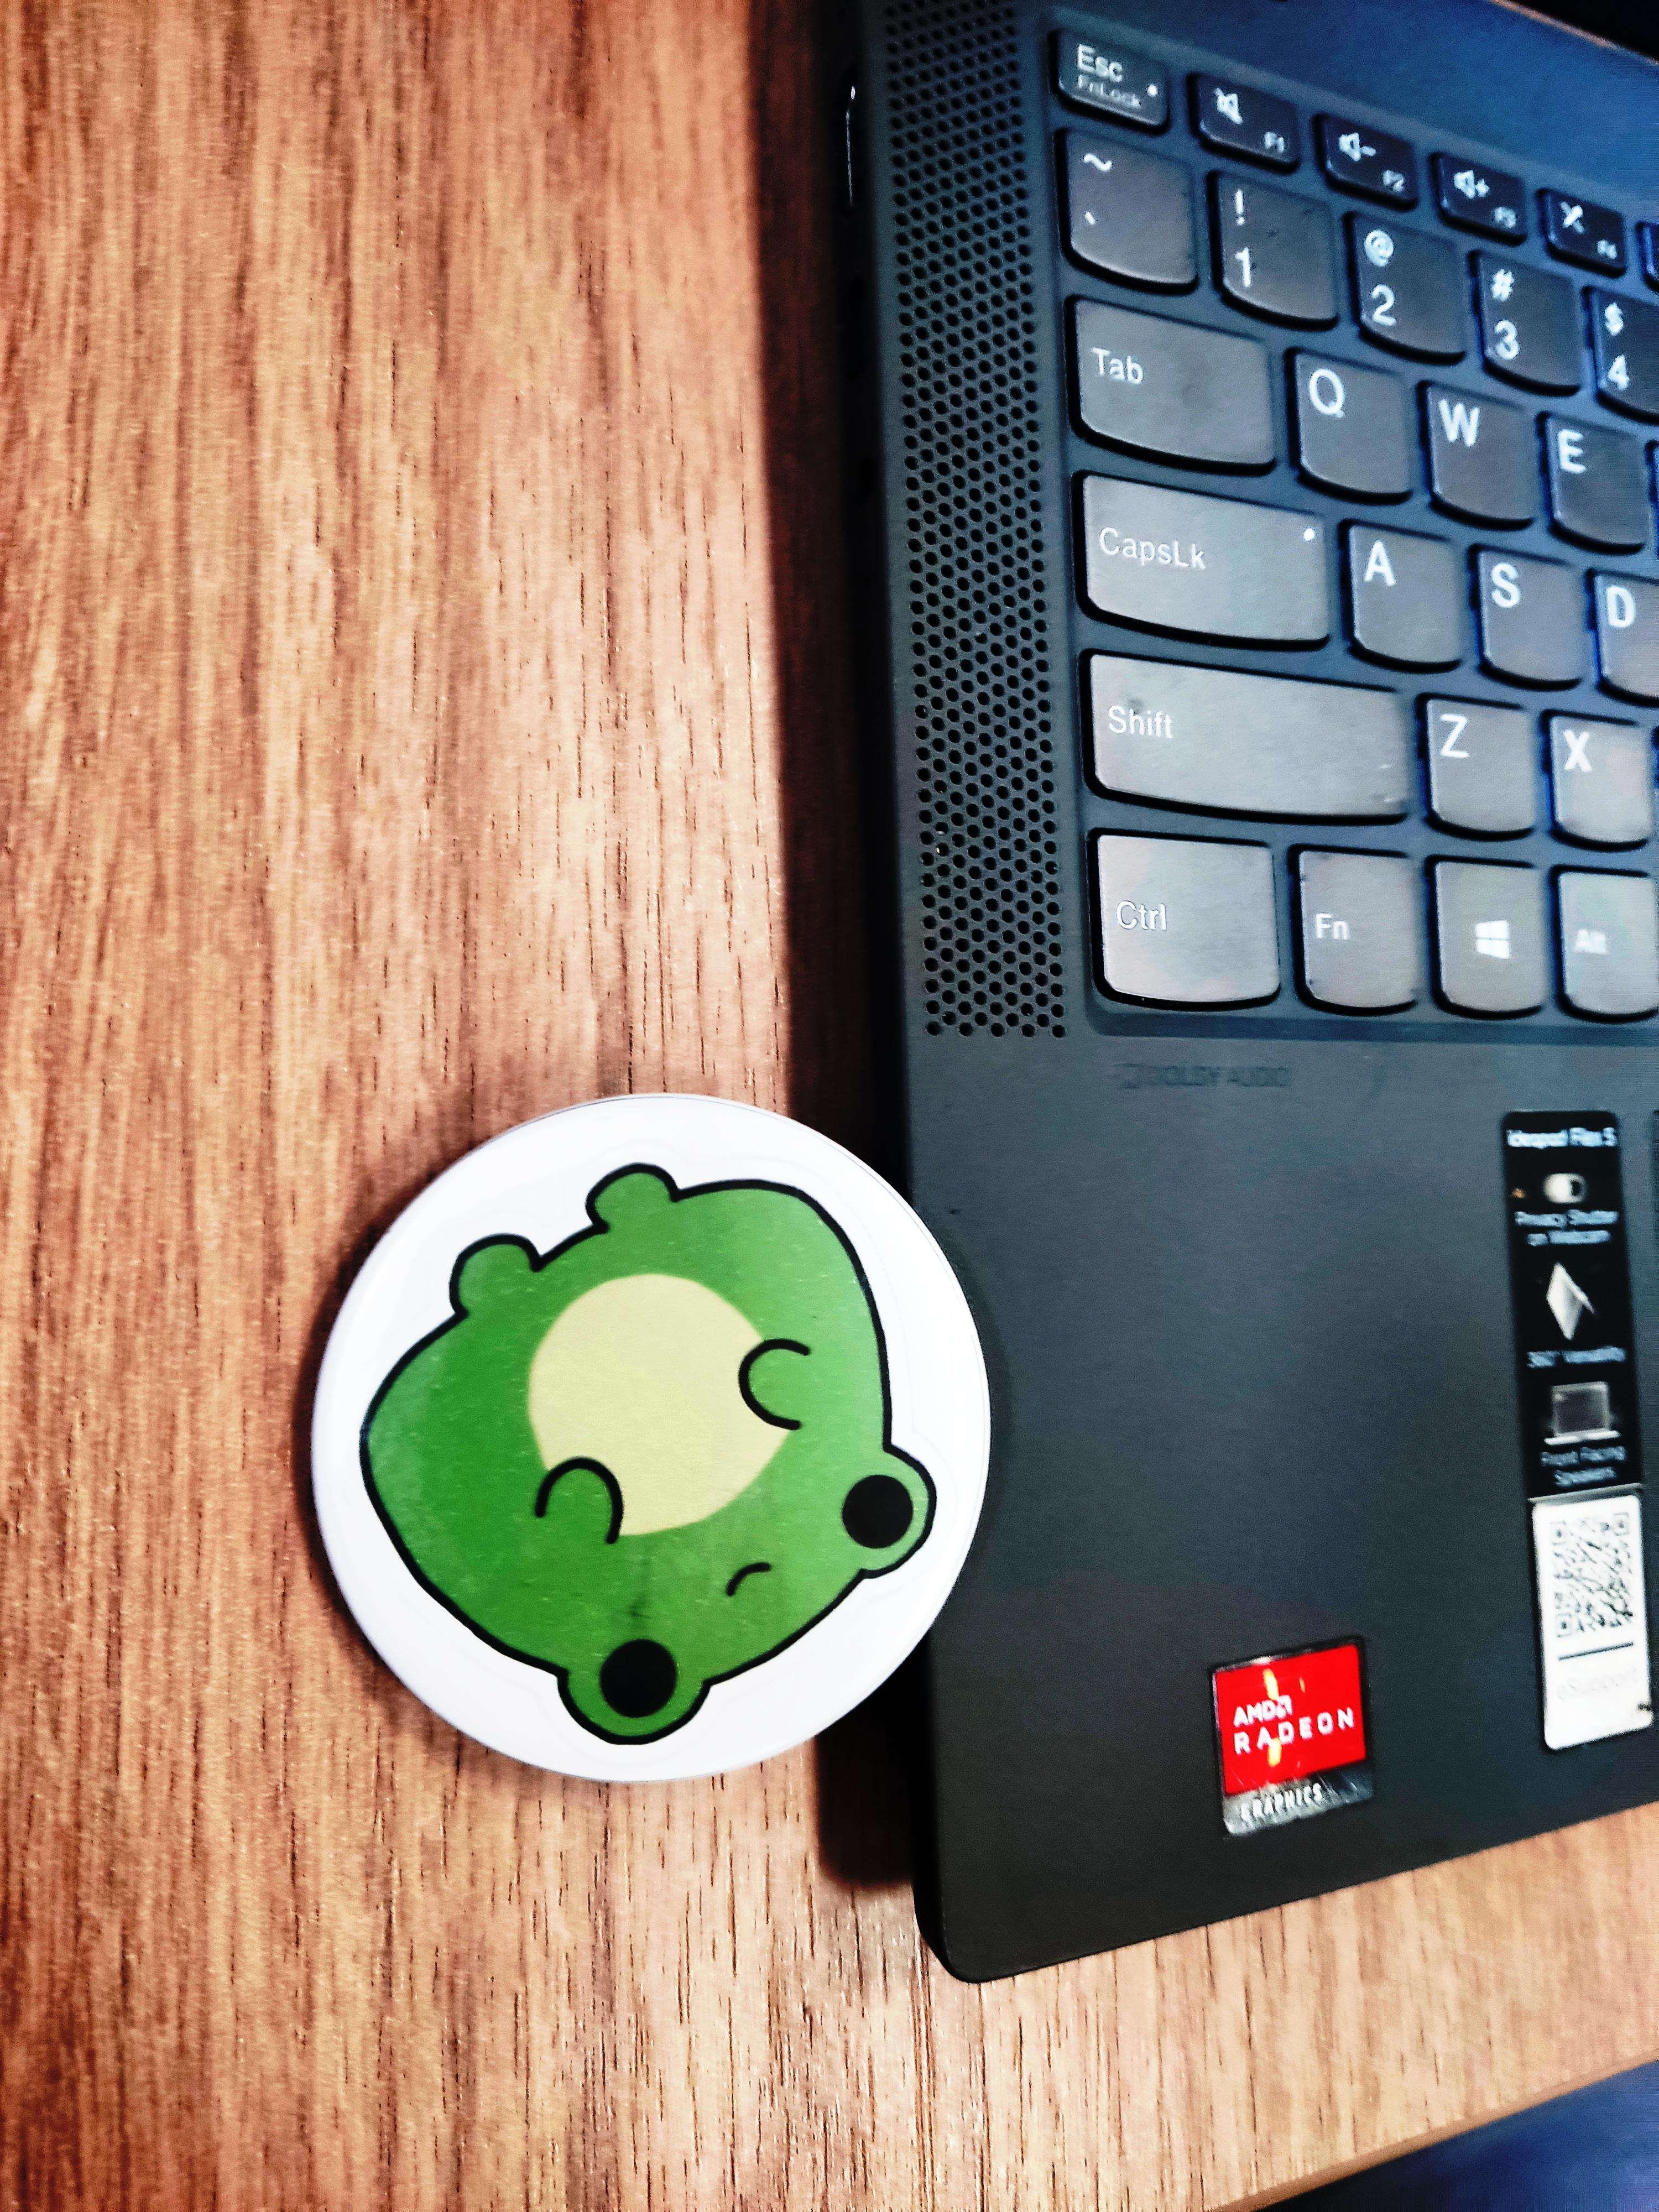pin: (282, 1080, 1007, 1787)
